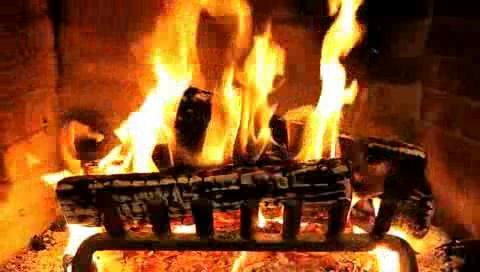fire: (97, 2, 372, 179)
